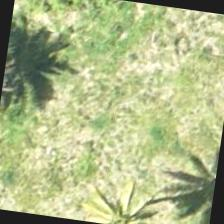Kelapa_Sawit: (72, 167, 170, 223)
